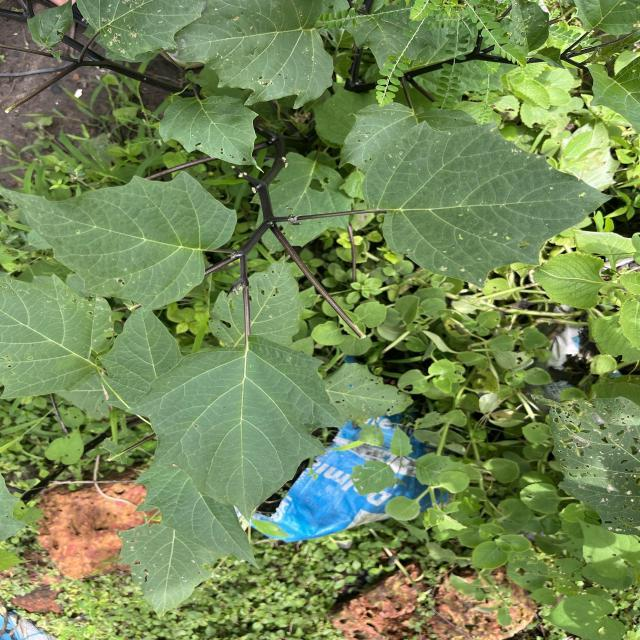Datura metal linn: (358, 118, 622, 292), (124, 336, 346, 530), (1, 168, 240, 314), (155, 92, 266, 178)
